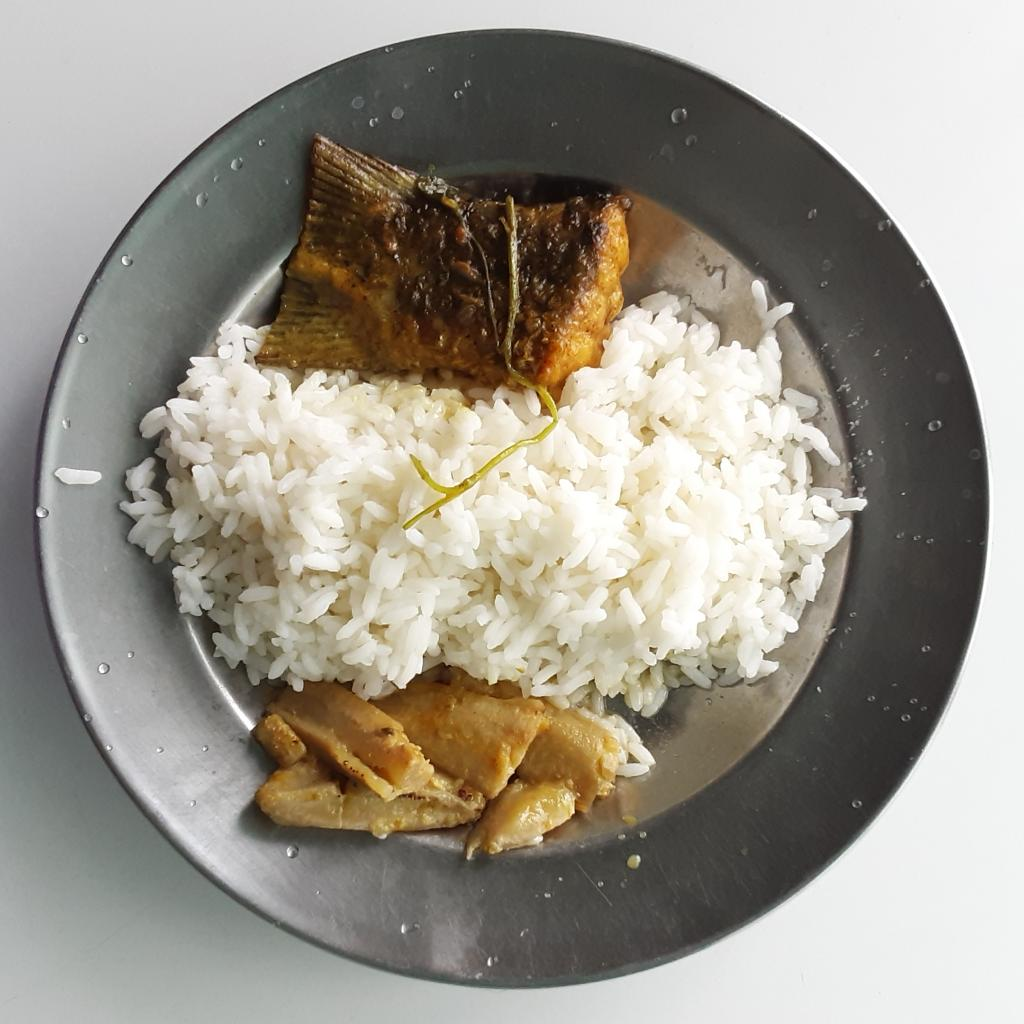fish: (253, 134, 631, 382)
kochu: (257, 665, 626, 858)
rice: (52, 273, 871, 779)
